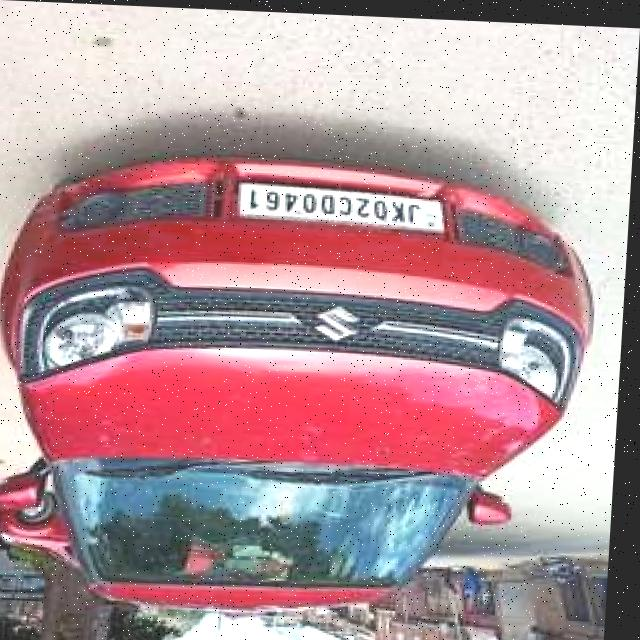plate: (239, 180, 451, 228)
